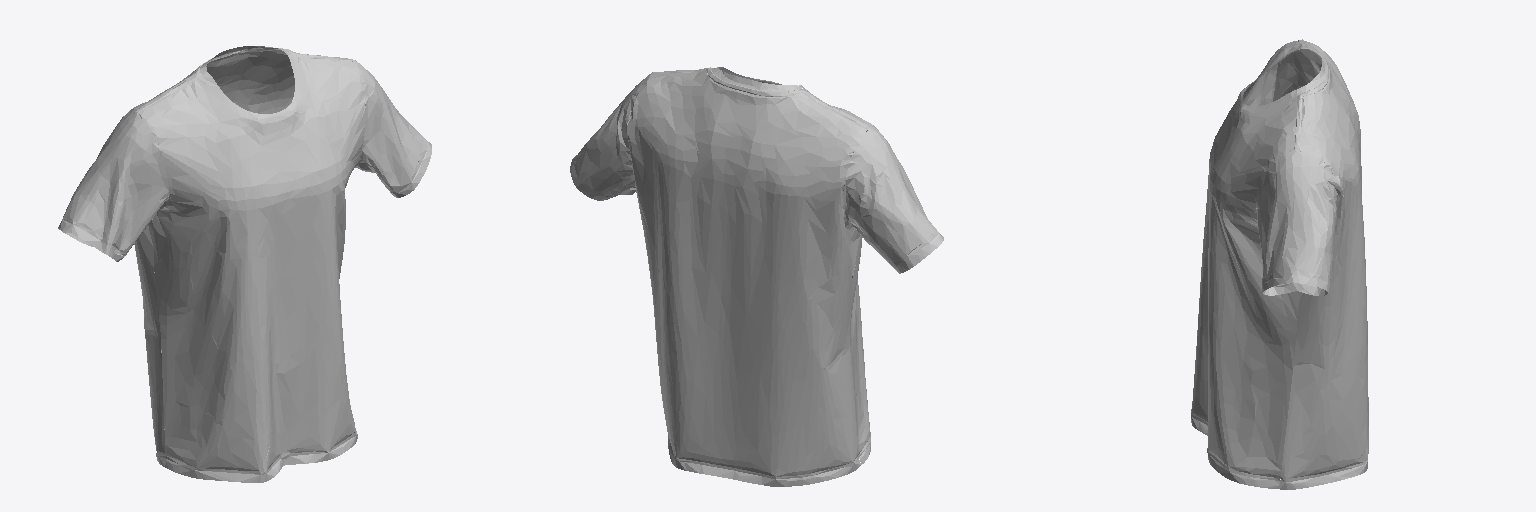
Rendered from tshirt_188_scaled.obj.
3 renders of one model, left to right at view 1: azimuth 30°, elevation 25°; view 2: azimuth 150°, elevation 25°; view 3: azimuth 270°, elevation 25°, orthographic.
Parts seen in each view (by area): view 1: tshirt_188:Mesh1; view 2: tshirt_188:Mesh1; view 3: tshirt_188:Mesh1.
Boxes of the visible parts, x1,y1,x2,y2 form: tshirt_188:Mesh1: [58, 46, 431, 482]; tshirt_188:Mesh1: [570, 67, 943, 486]; tshirt_188:Mesh1: [1191, 39, 1368, 489].
Size of the model in its own units: 2.11 by 2.12 by 0.8874.